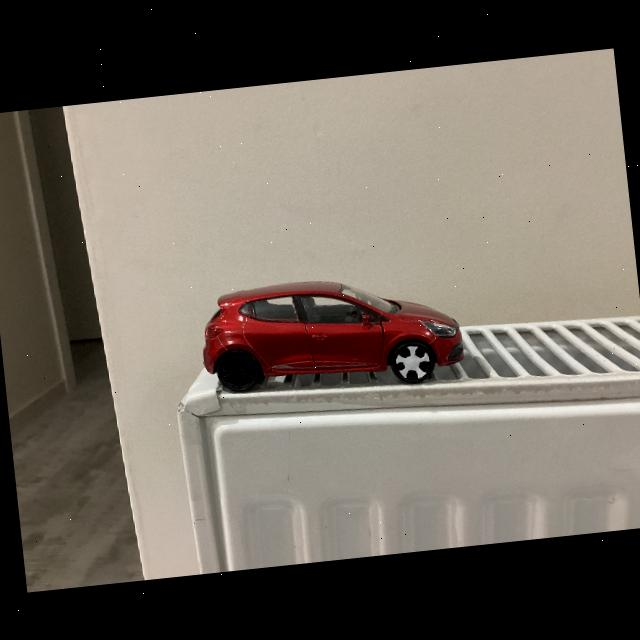Dogru_Jant: (220, 354, 256, 388)
Yanlis_Jant: (394, 344, 432, 381)
